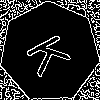K: (24, 27, 80, 79)
